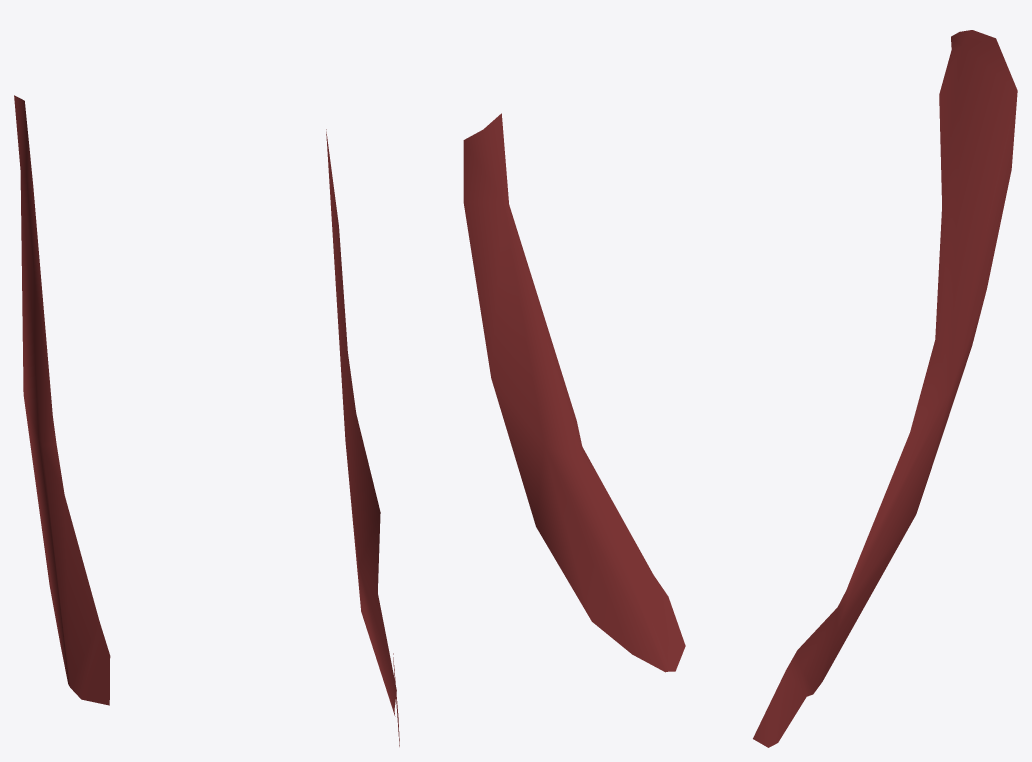
File: dorsal-interossei-muscles-of-hand-o1l.glb
3 renders of one model, left to right at view 1: azimuth 30°, elevation 25°; view 2: azimuth 150°, elevation 25°; view 3: azimuth 270°, elevation 25°, orthographic. The views are drawn at different scales.
Visible parts, largest first — view 1: Dorsal interossei muscles of hand.o1l; view 2: Dorsal interossei muscles of hand.o1l; view 3: Dorsal interossei muscles of hand.o1l.
Part boxes in pixels (x1,y1,x2,y2): Dorsal interossei muscles of hand.o1l: [14, 95, 110, 705]; Dorsal interossei muscles of hand.o1l: [326, 113, 685, 746]; Dorsal interossei muscles of hand.o1l: [753, 30, 1017, 747].
Bounding box in the file's own units: 0.0102 × 0.0297 × 0.0117.
